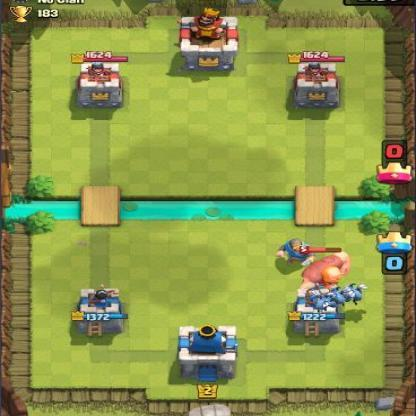ally_minion: (320, 282, 350, 309), (340, 281, 369, 308), (303, 287, 332, 314)
enemy_giant: (295, 243, 355, 301)
enemy_minion: (272, 236, 316, 270)
